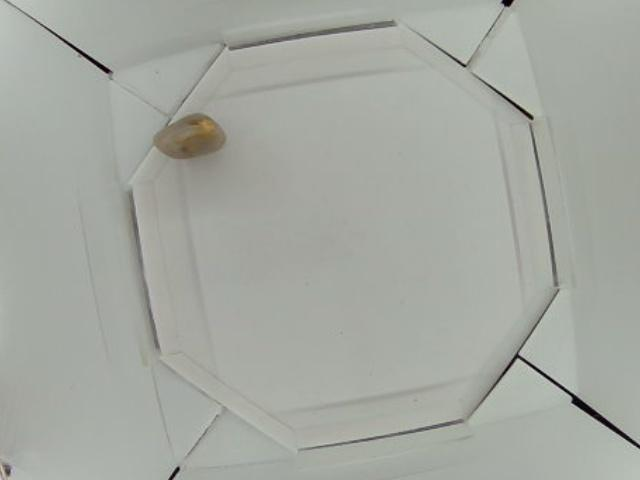Pebble: (151, 112, 229, 160)
